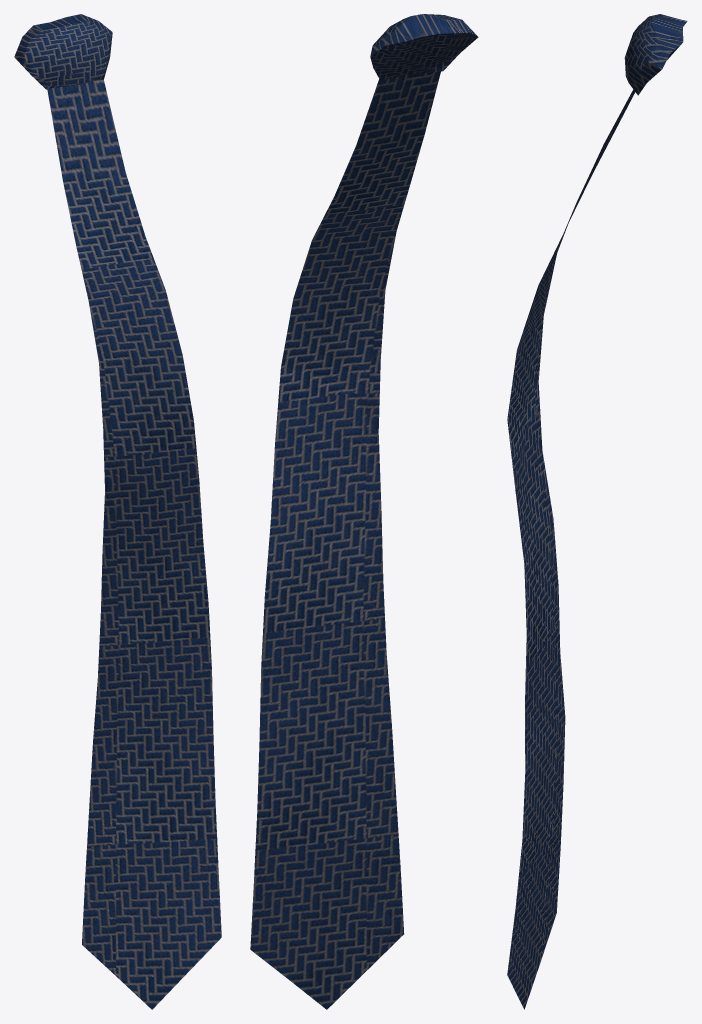
The model's file is Pose-1_Tie-3.fbx.
3 views of the same model, side by side, from view 1: azimuth 30°, elevation 25°; view 2: azimuth 210°, elevation 25°; view 3: azimuth 270°, elevation 25° (orthographic). The views are drawn at different scales.
Visible parts, largest first — view 1: Pose-1_Tie-3; view 2: Pose-1_Tie-3; view 3: Pose-1_Tie-3.
Part boxes in pixels (bbox=[...]): Pose-1_Tie-3: bbox=[14, 14, 221, 1009]; Pose-1_Tie-3: bbox=[250, 14, 478, 1009]; Pose-1_Tie-3: bbox=[507, 14, 687, 1009].
Size of the model in its own units: 7.45 by 51.34 by 8.59.
